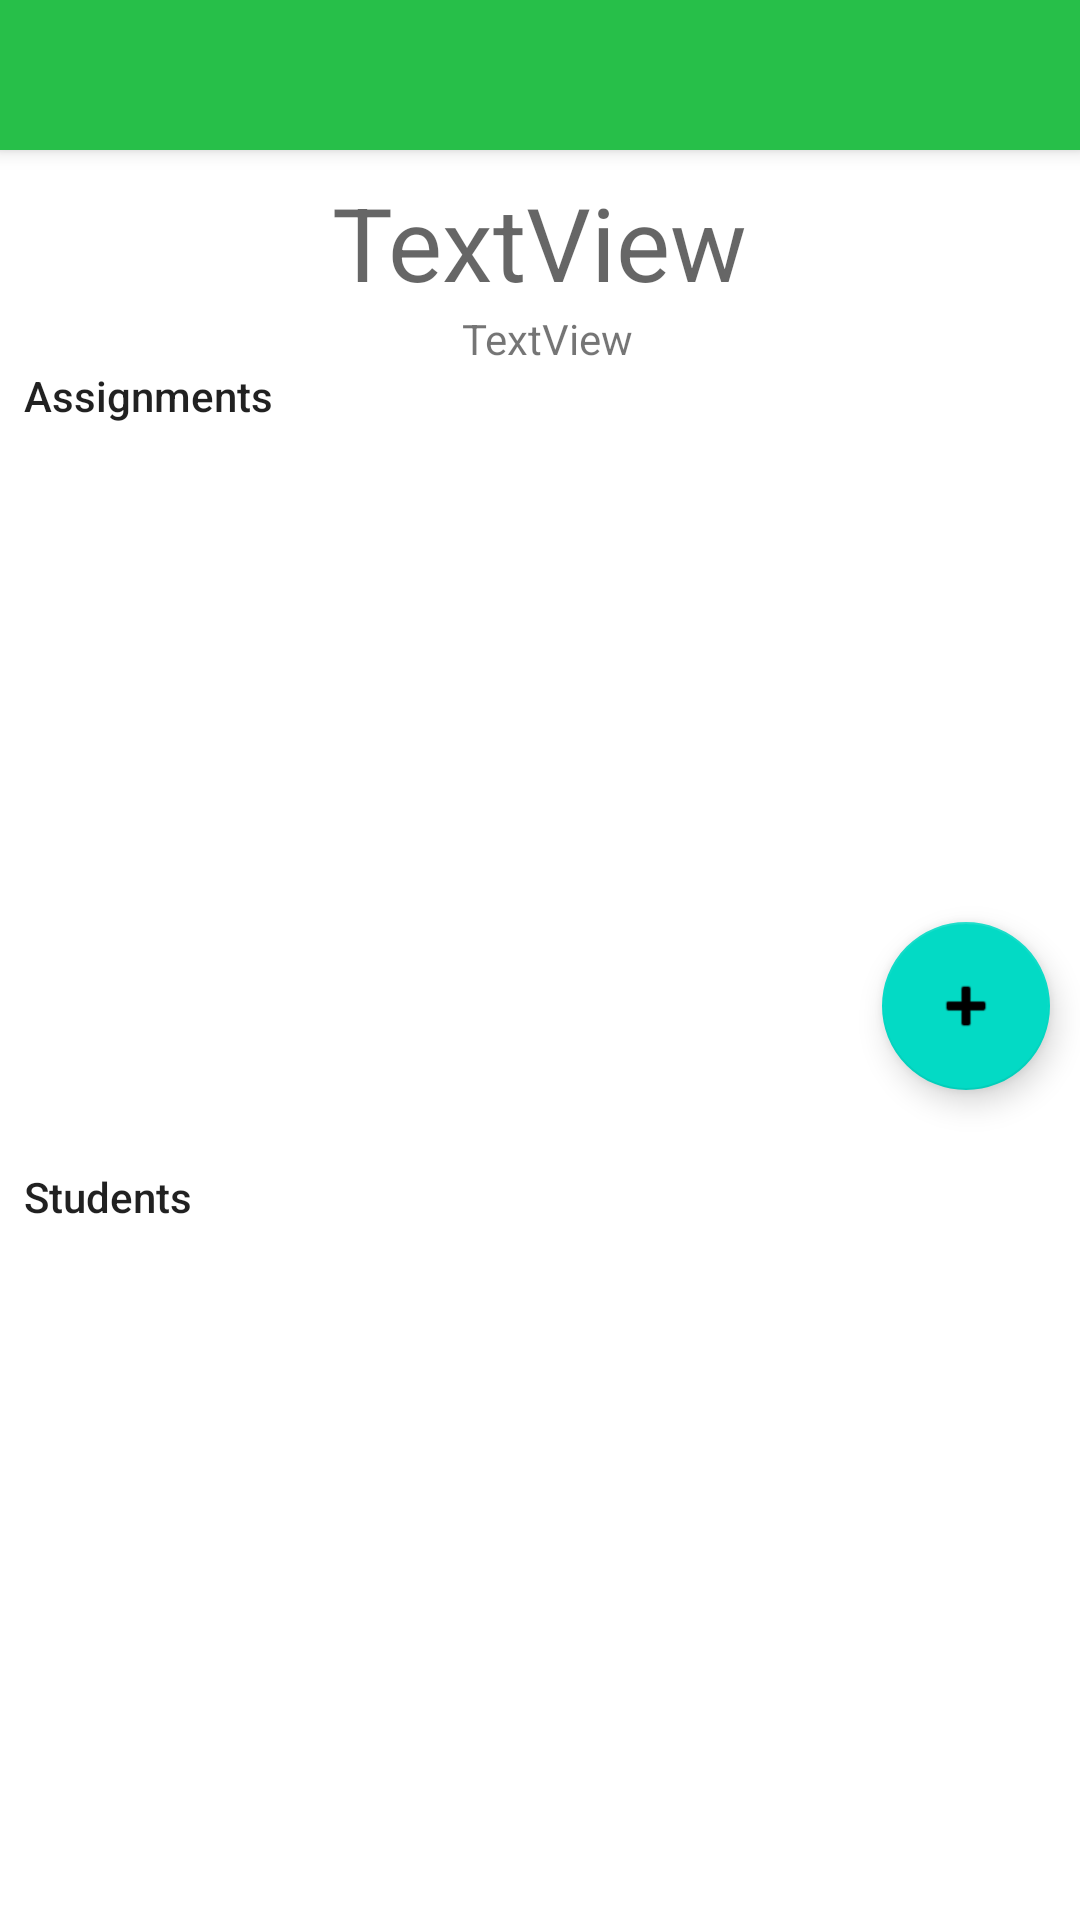

Locate icon controls on the screen. Image size 1080px×1920px, boxes as (x1, y1, x2, y2).
add: (882, 922, 1050, 1090)
